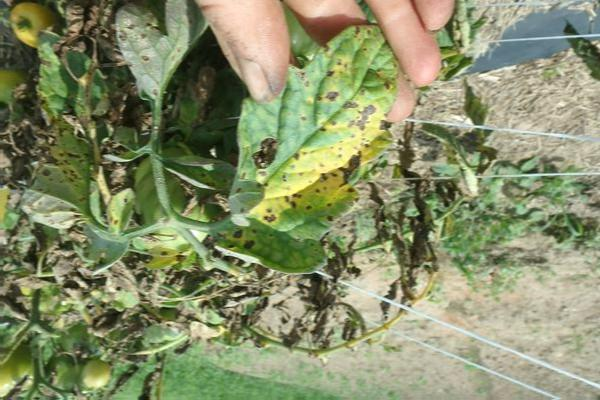Tomato Septoria leaf spot: (217, 26, 399, 280), (23, 122, 103, 242), (117, 13, 196, 101)
